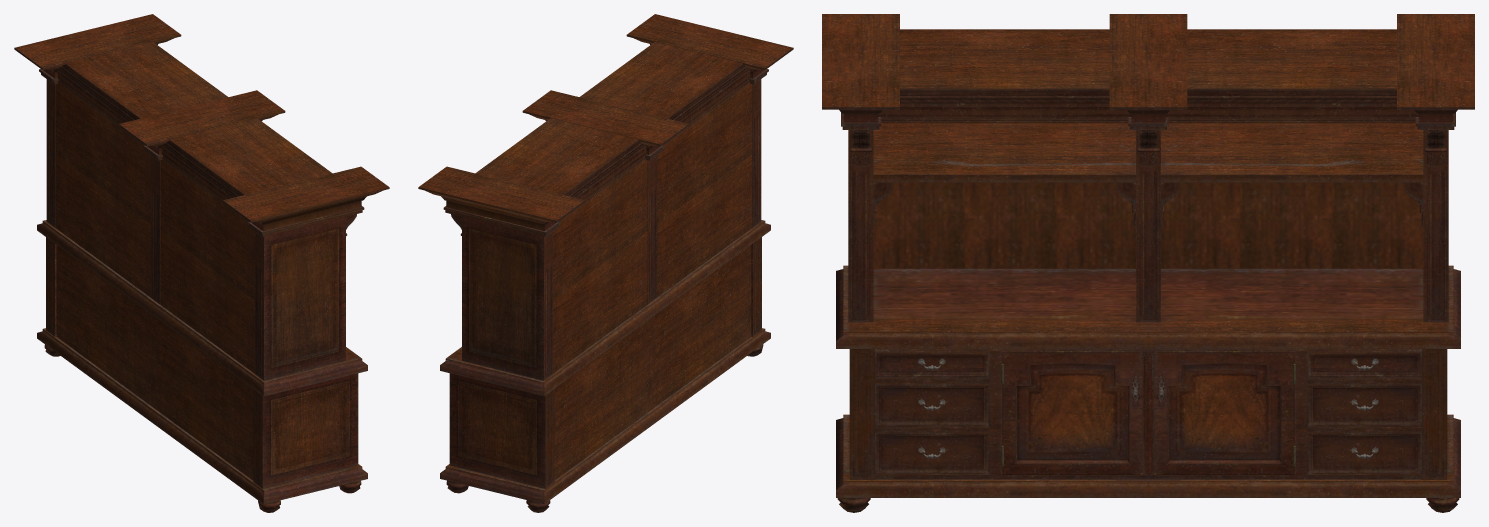
The model's file is 152_HeadShelf.fbx.
The picture shows the model from 3 angles, left to right: view 1: azimuth 30°, elevation 25°; view 2: azimuth 150°, elevation 25°; view 3: azimuth 270°, elevation 25°; orthographic projection. The views are drawn at different scales.
Parts seen in each view (by area): view 1: LOD_1_Group_0_Sub_1__sm30_042_HeadShelf01A_A_Mat; view 2: LOD_1_Group_0_Sub_1__sm30_042_HeadShelf01A_A_Mat; view 3: LOD_1_Group_0_Sub_1__sm30_042_HeadShelf01A_A_Mat.
Part boxes in pixels (left/top/right/bottom): LOD_1_Group_0_Sub_1__sm30_042_HeadShelf01A_A_Mat: left=14, top=14, right=389, bottom=512; LOD_1_Group_0_Sub_1__sm30_042_HeadShelf01A_A_Mat: left=418, top=14, right=793, bottom=512; LOD_1_Group_0_Sub_1__sm30_042_HeadShelf01A_A_Mat: left=822, top=14, right=1474, bottom=512.
Bounding box in the file's own units: 1.23 × 2.58 × 3.63.
